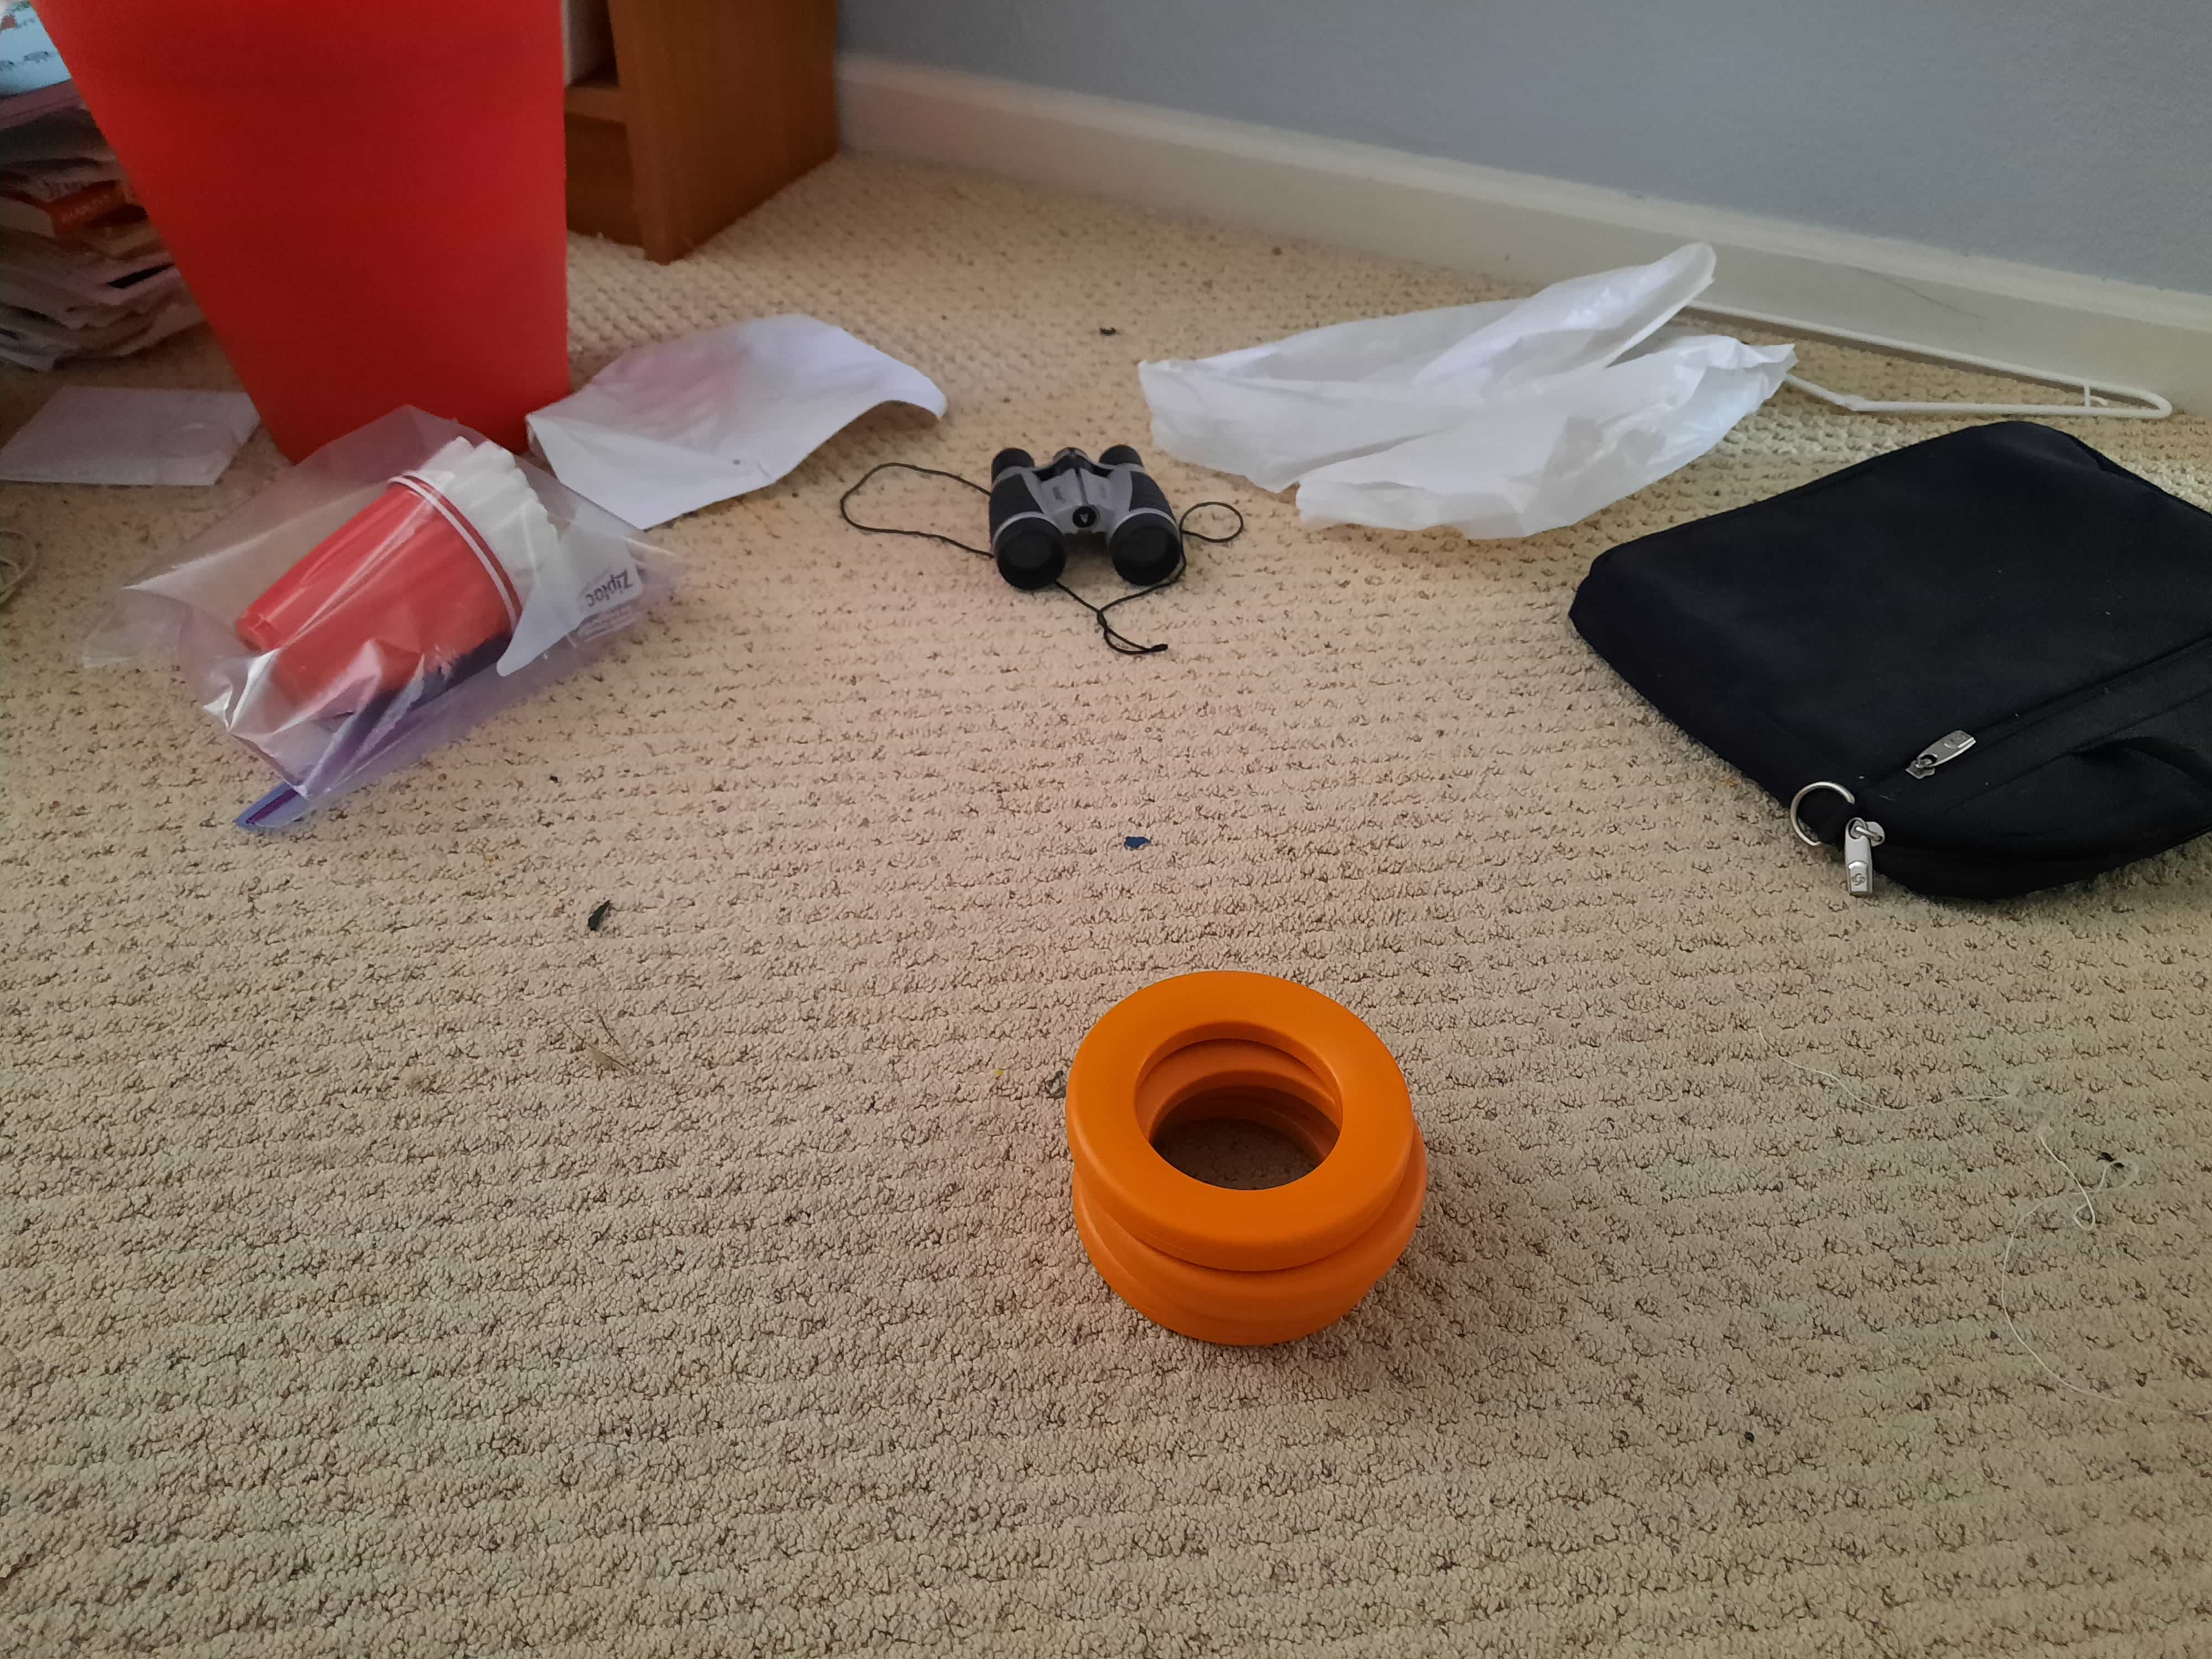FourStack: (1061, 983, 1426, 1342)
